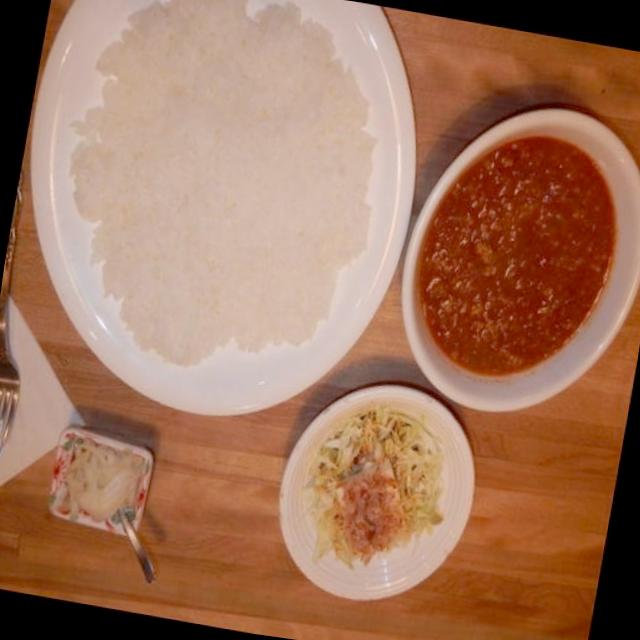Rice: (39, 0, 399, 391)
